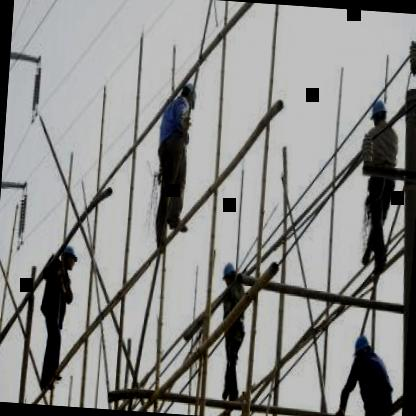helmet: (367, 96, 390, 132), (219, 256, 238, 294), (58, 242, 80, 274), (351, 332, 373, 362), (177, 82, 199, 112)
